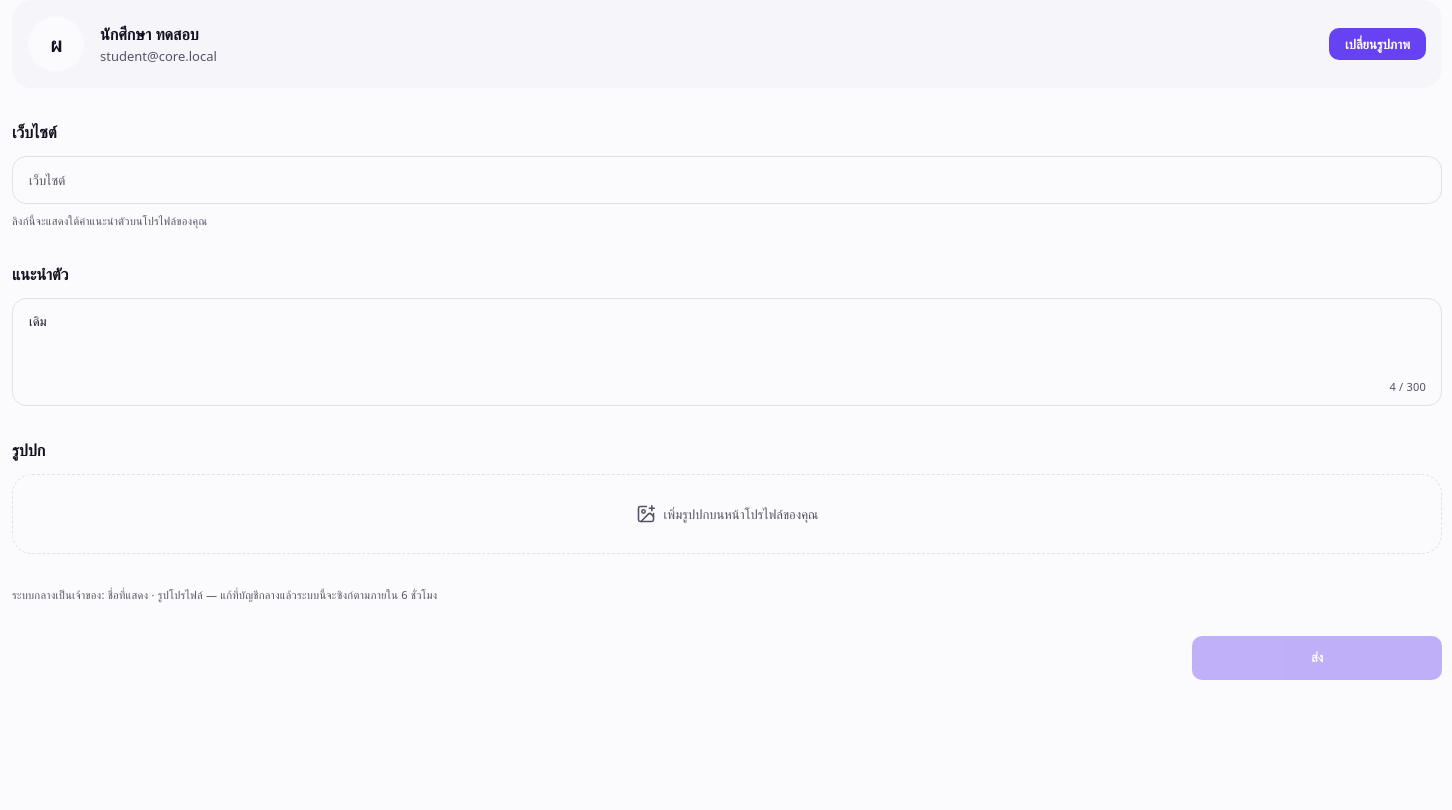
Test: แก้ไขโปรไฟล์ › ส่งแค่ bio (ไม่ส่ง website/cover ถ้าไม่ได้แตะ) แล้วเขียนแคชโปรไฟล์ให้หน้าโปรไฟล์เห็นทันที
This screenshot has width=1452, height=810.
Replace the text in the text box labelled "แนะนำตัว" with "ใหม่". click: (727, 352)
box: [12,298,1442,406]
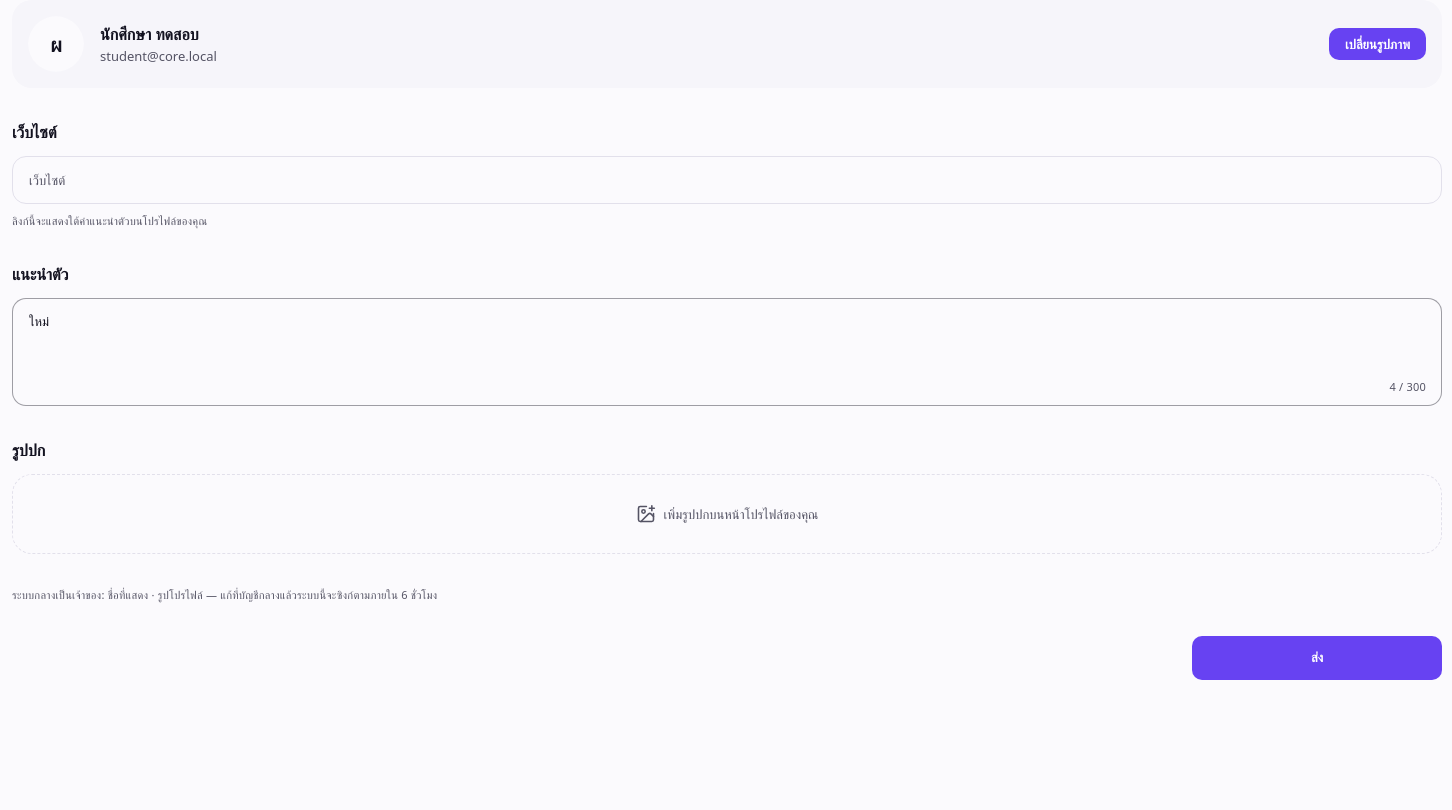
Click the button "ส่ง". click: (1317, 658)
box: [1192,636,1442,680]
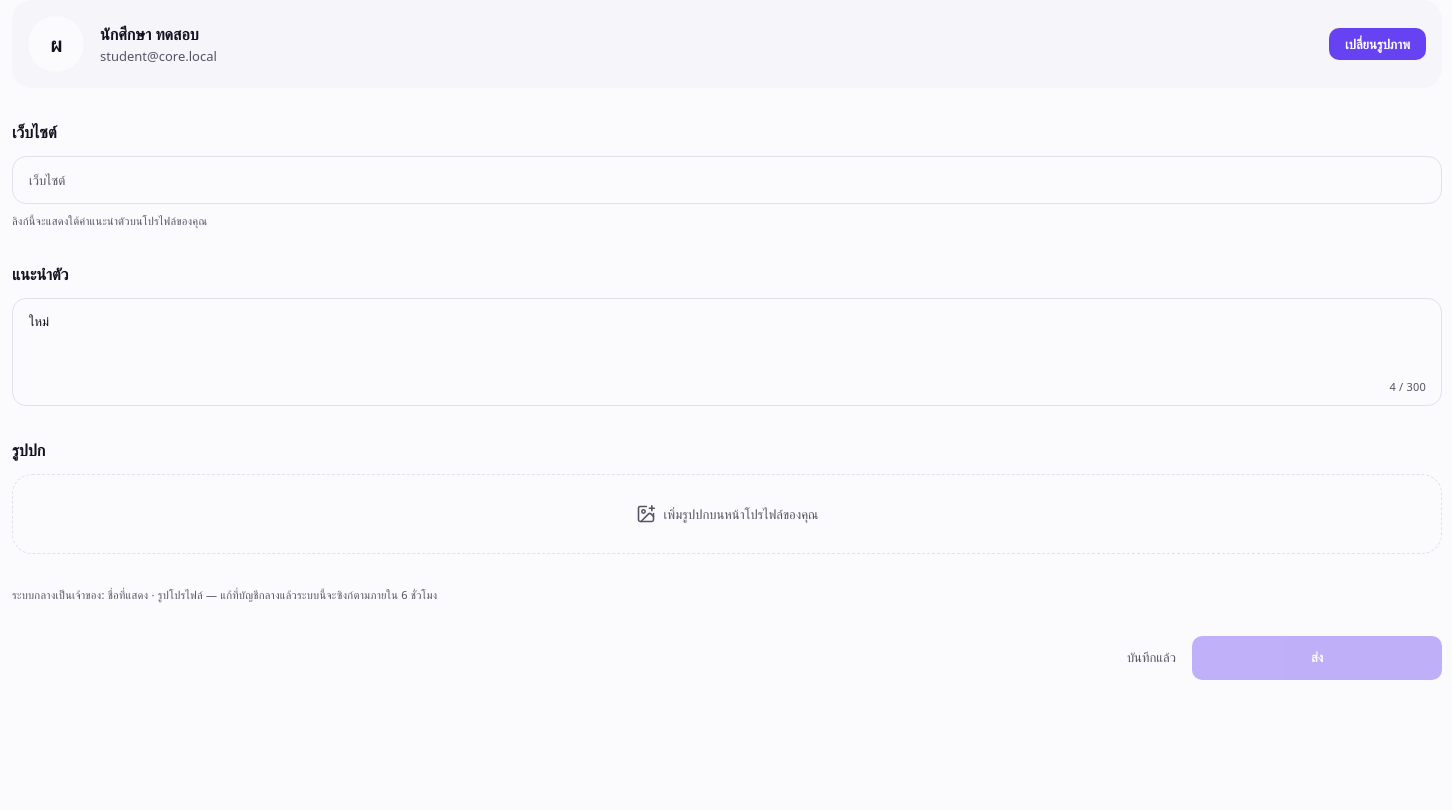
Now the text "บันทึกแล้ว" is shown, box [1127,647,1176,668]
